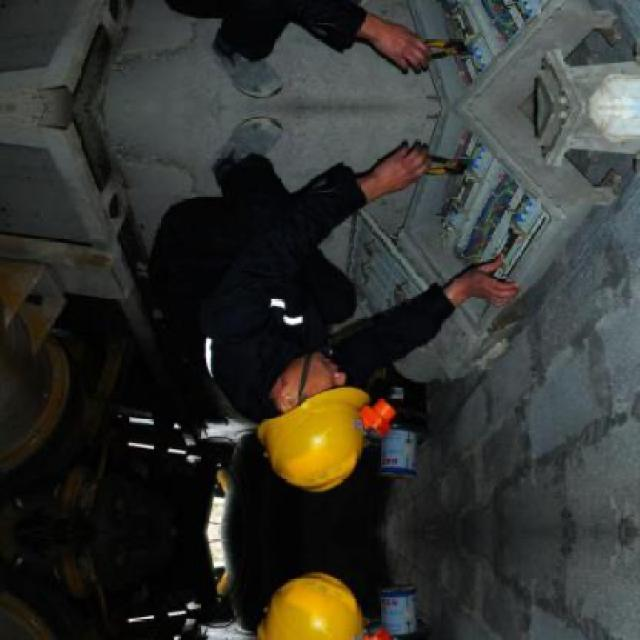con casco: (212, 329, 389, 499)
